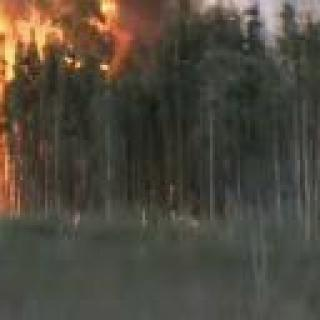fire: (0, 0, 21, 222), (70, 0, 133, 69)
